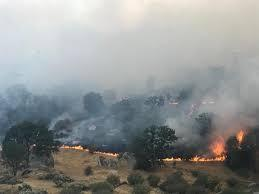fire: (160, 129, 243, 161), (56, 143, 119, 156)
yanwu: (3, 0, 259, 137)
